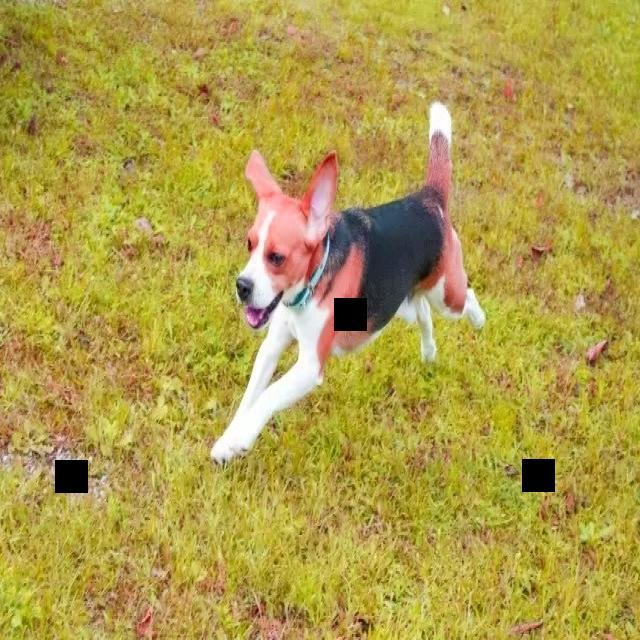adult_dog: (208, 101, 489, 466)
